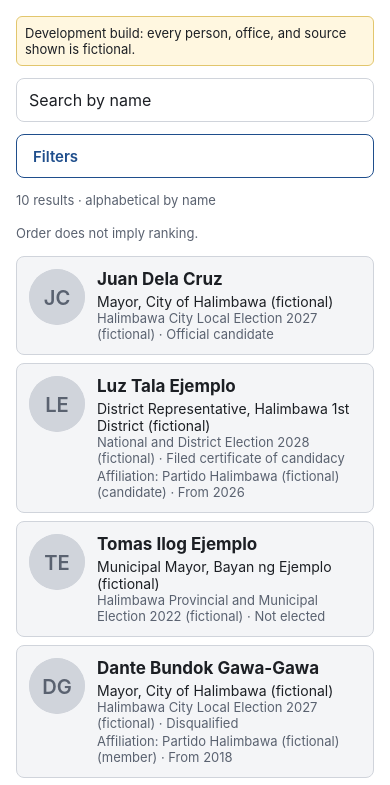
DirectoryView › offers no ranking or judging filters
Expected: the text "10 results · alphabetical by name" is shown, [16,192,216,208]
Click the button "Filters". click: (56,156)
box: [16,134,374,178]
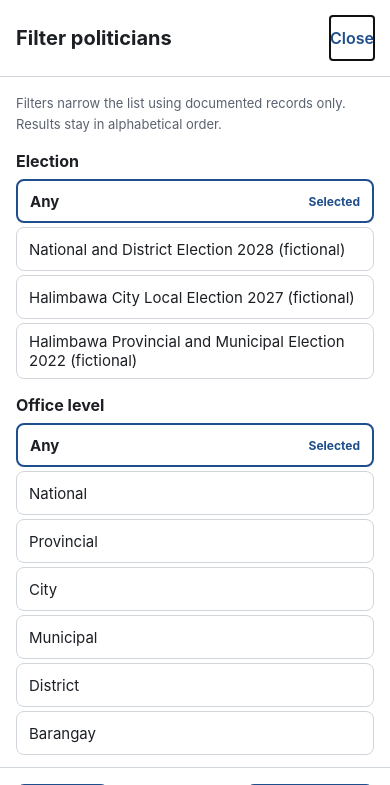
Expected: the radio button labelled "National" is shown, [16,471,374,515]
